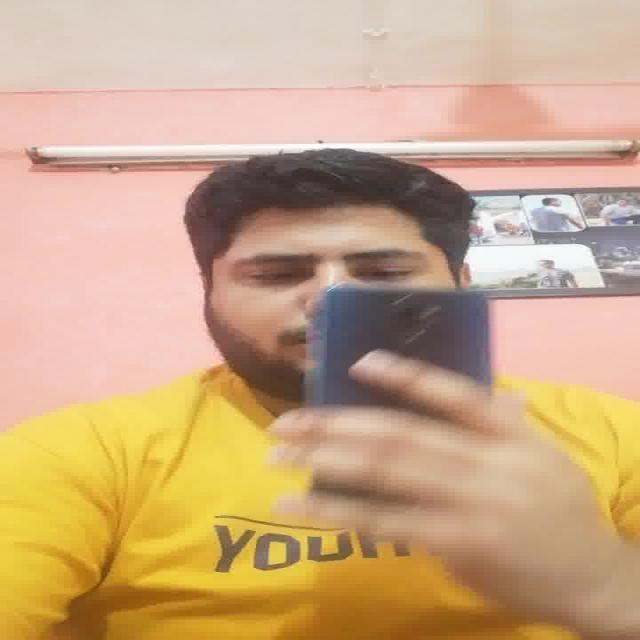Phone: (314, 285, 494, 409)
